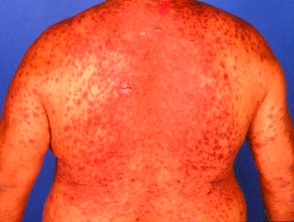SJS-TEN: (0, 0, 276, 220), (243, 97, 294, 222)
